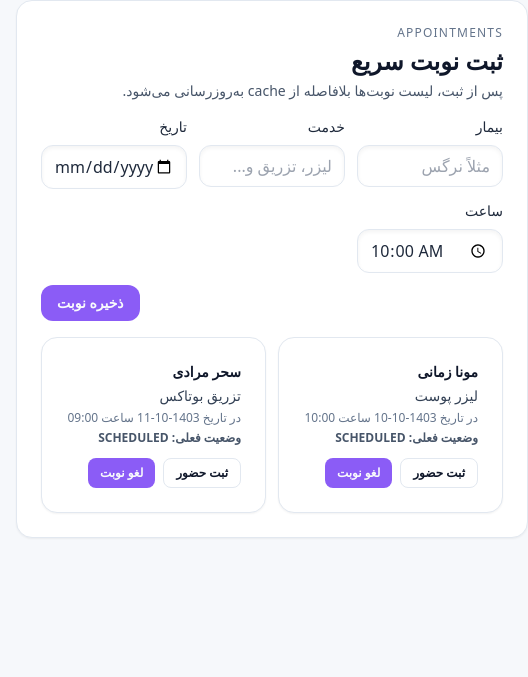
AppointmentScheduler › surfaces time conflict toast from API mock
Expected: the text "مونا زمانی" is shown, [417,362,478,381]
Clear the time field labelled "ساعت" at (430, 251), box [357,229,503,273]
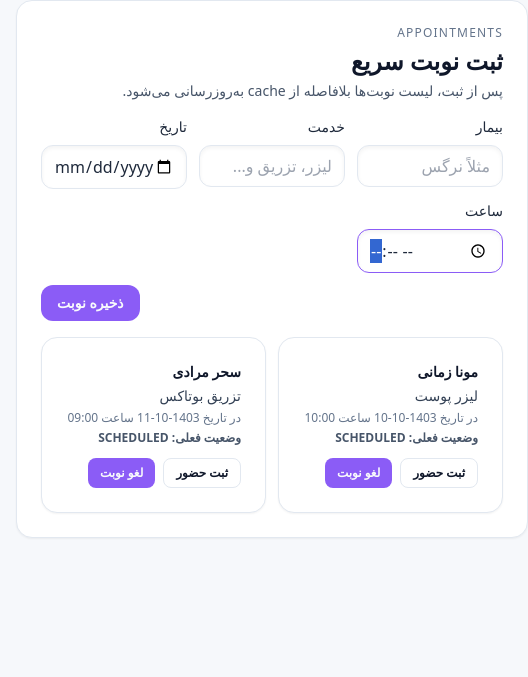
Type "هما" into the field with placeholder "مثلاً نرگس" at (430, 166), box [357,145,503,187]
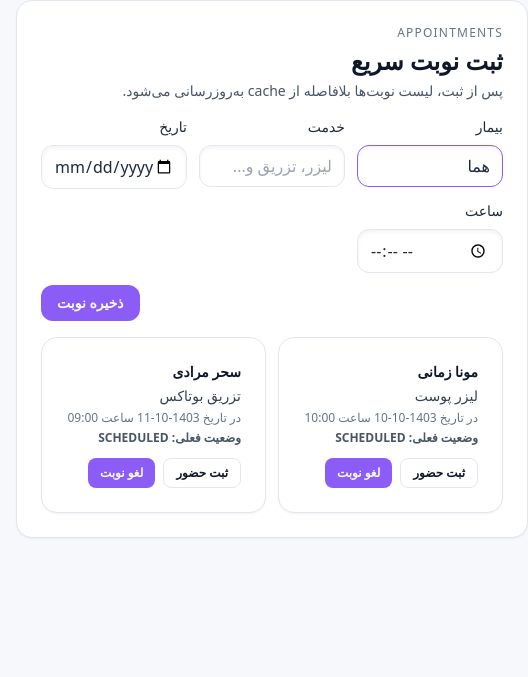
Type "ویزیت" into the field with placeholder "لیزر، تزریق و..." at (272, 166), box [199,145,345,187]
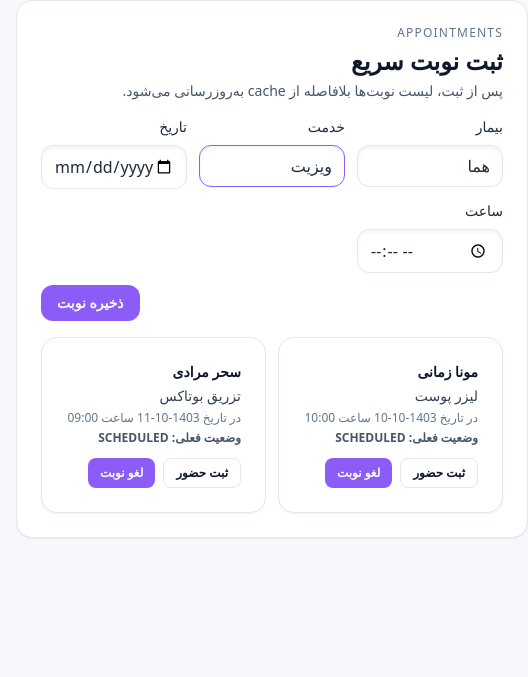
Type "1403-10-10" into the date field labelled "تاریخ" at (114, 167), box [41,145,187,189]
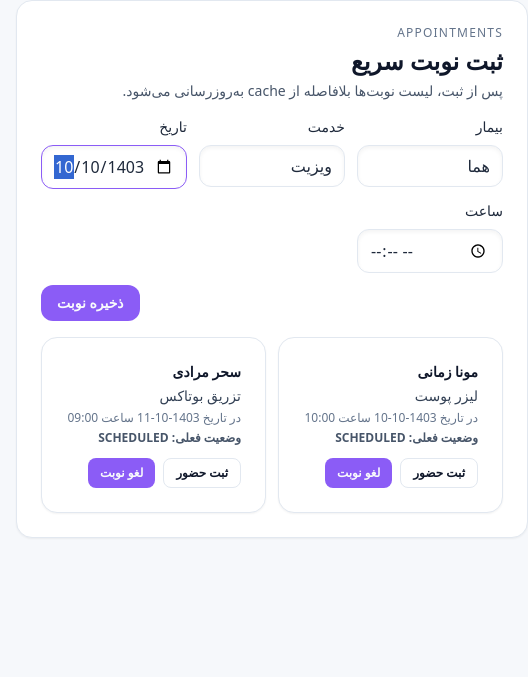
Type "10:00" into the time field labelled "ساعت" at (430, 251), box [357,229,503,273]
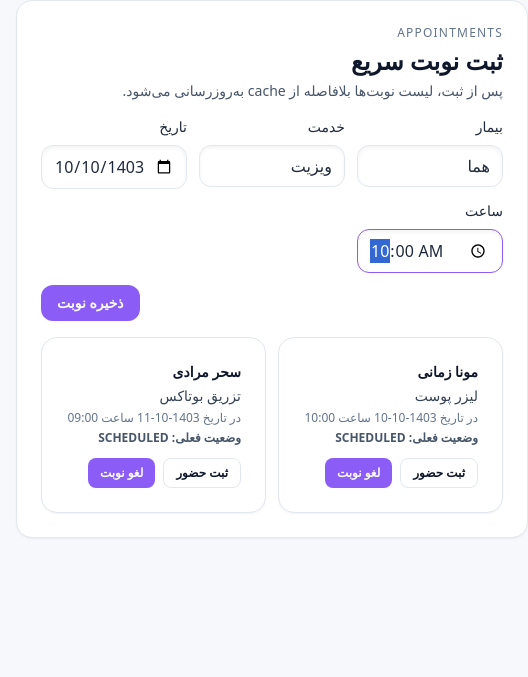
Click the button "ذخیره نوبت" at (90, 303), box [41,285,140,321]
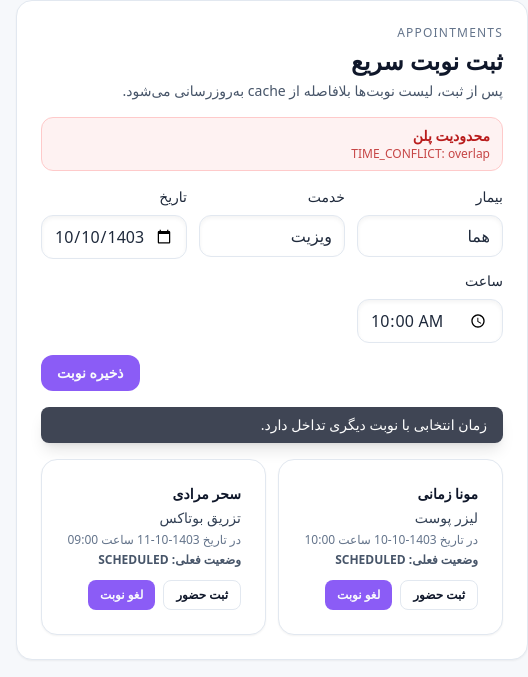
Expected: the text "زمان انتخابی با نوبت دیگری تداخل دارد." is shown, [41,407,503,443]
